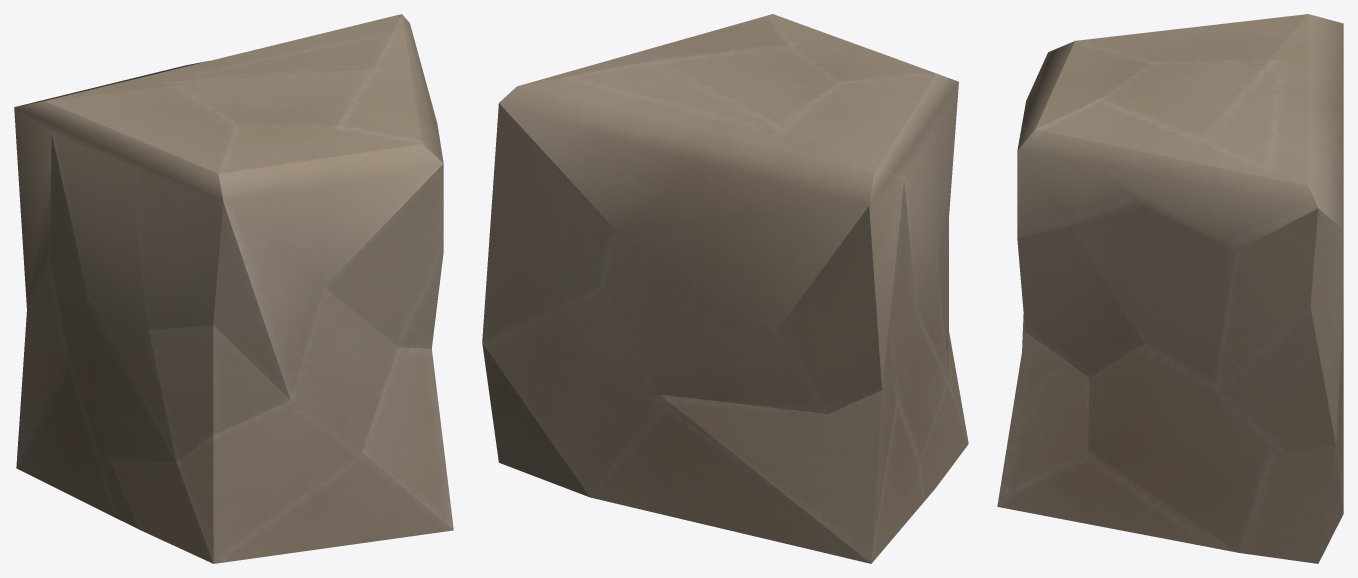
Rendered from rock pillars 2.fbx.
3 renders of one model, left to right at view 1: azimuth 30°, elevation 25°; view 2: azimuth 150°, elevation 25°; view 3: azimuth 270°, elevation 25°, orthographic.
Parts seen in each view (by area): view 1: polySurface425; view 2: polySurface425; view 3: polySurface425.
Part boxes in pixels (x1=…): polySurface425: x1=14, y1=14, x2=453, y2=563; polySurface425: x1=482, y1=14, x2=968, y2=563; polySurface425: x1=997, y1=14, x2=1343, y2=563.
Size of the model in its own units: 6.06 by 5.64 by 4.7.
1 material, 1 textured.
